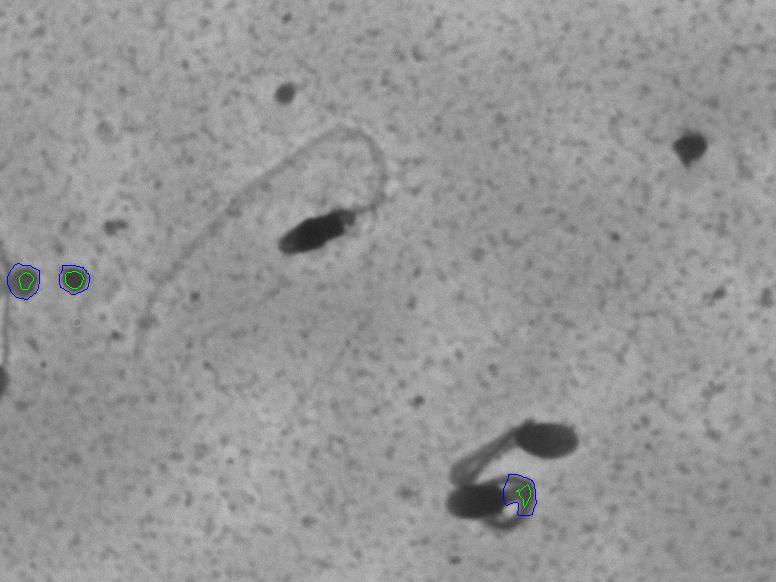Abnormal: (116, 100, 423, 385), (422, 392, 590, 553)
